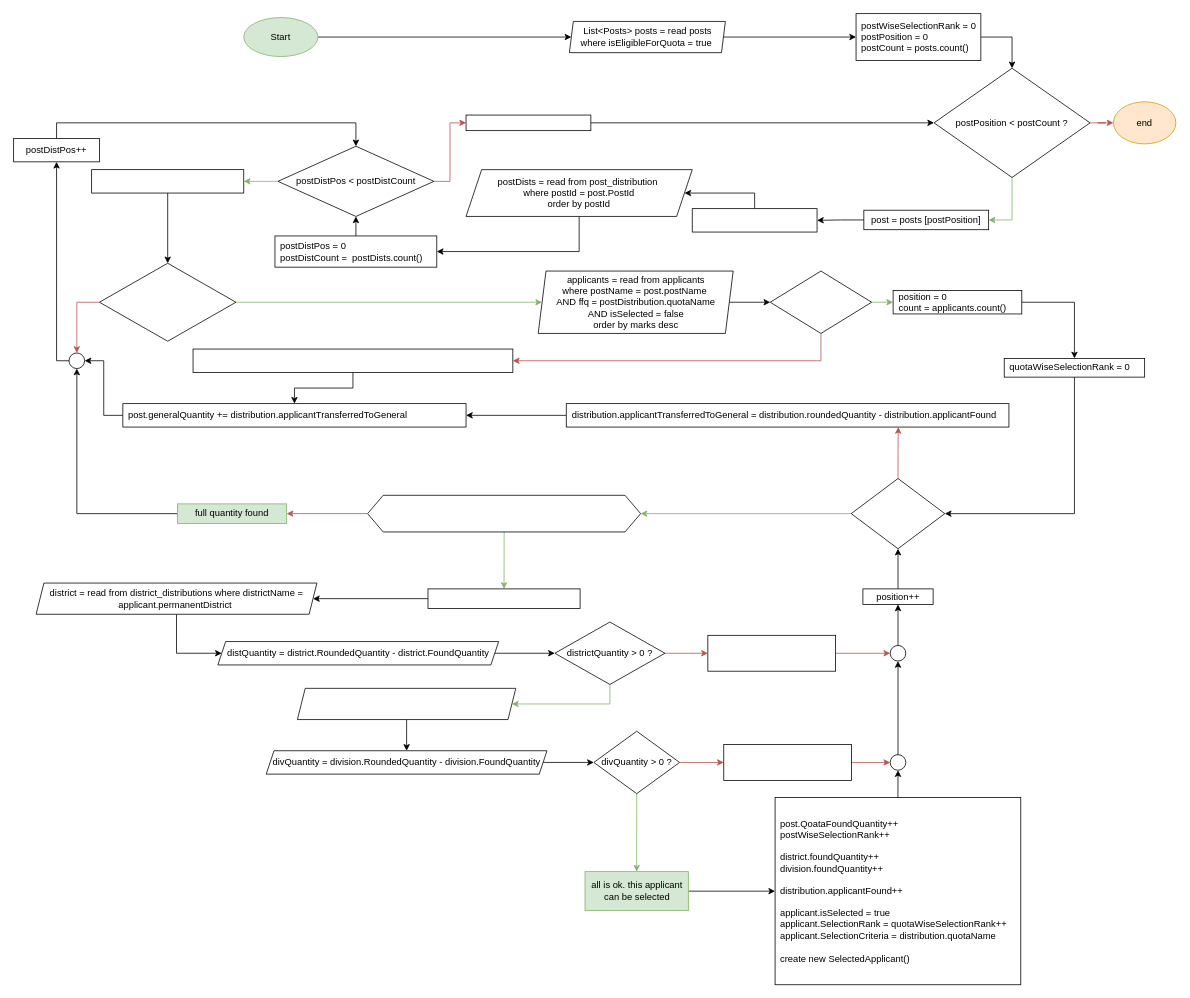
Image size: 1190x998. Some labels were removed from this diagram. The centre of each missing label's shape, as x and y in pixels:
"applicant = applicants[position]" belongs at [503,598].
"applicant.refectedFor = Insufficient district quota" belongs at [771,653].
"applicant.refectedFor = Insufficient division quota" belongs at [787,762].
"dist = postDists[postDistPos]" belongs at [167,181].
"dist.roundedQuantity > 0" belongs at [167,301].
"distribution.applicantFound < distribution.roundedQuantity ?" belongs at [504,513].
"distribution.applicantTransferredToGeneral = distribution.roundedQuantity" belongs at [352,360].
"division = read division_distribution where divisionName = district.divisionName" belongs at [406,704].
"has applicants ?" belongs at [820,301].
"position < count ?" belongs at [897,513].
"postPosition ++" belongs at [528,122].
"postWiseSelectionRank = 0" belongs at [754,220].
